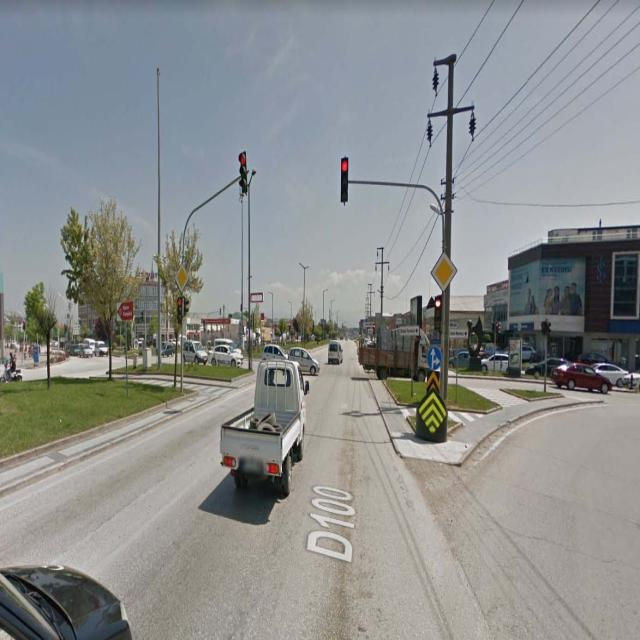ilerisag: (427, 346, 441, 369)
kirmizi: (340, 158, 348, 202), (240, 151, 247, 192), (434, 295, 441, 332), (178, 298, 181, 322)
